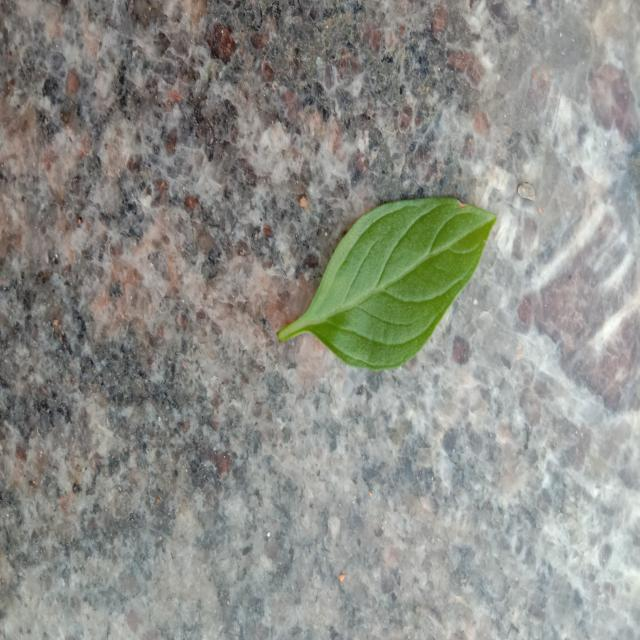kamakasturi: (278, 197, 496, 369)
